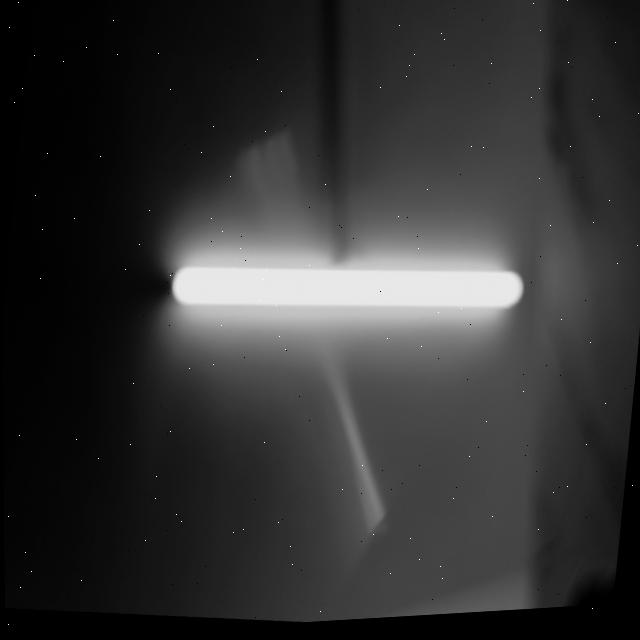light_on: (150, 214, 531, 369)
